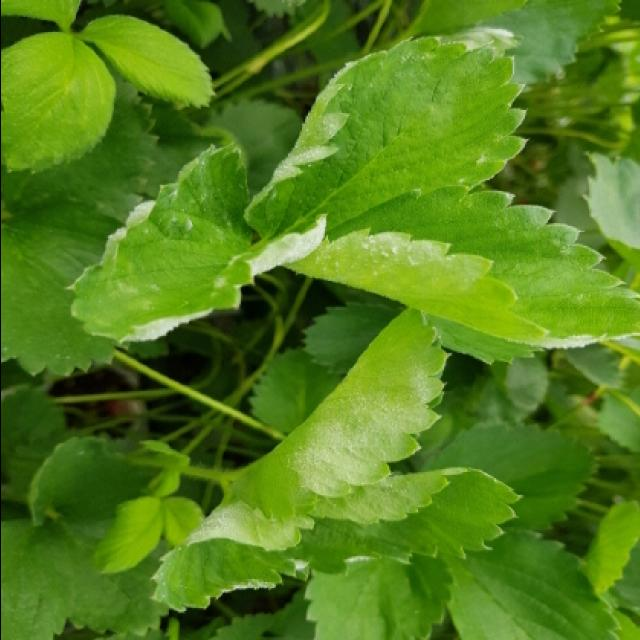Powdery Mildew Leaf: (280, 184, 640, 350), (239, 35, 528, 240), (66, 142, 327, 345), (224, 305, 453, 520), (147, 497, 315, 614)
